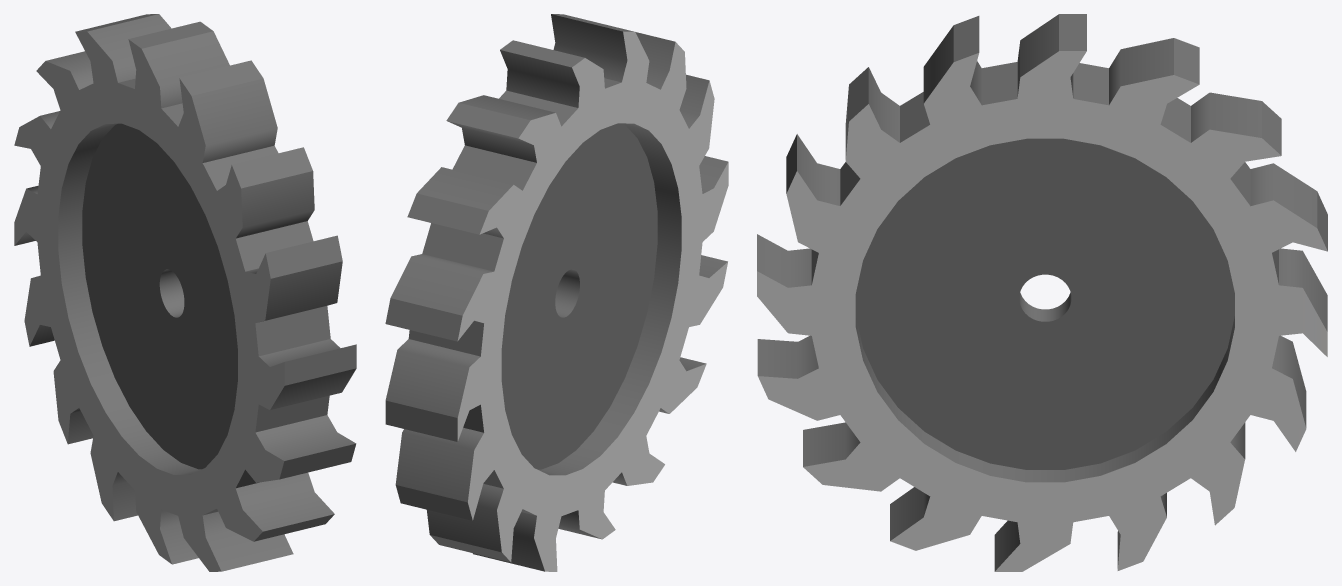
The model's file is B_Scrap_BWE_bucket.fbx.
3 views of the same model, side by side, from view 1: azimuth 30°, elevation 25°; view 2: azimuth 150°, elevation 25°; view 3: azimuth 270°, elevation 25° (orthographic). The views are drawn at different scales.
Visible parts, largest first — view 1: BWE_bucket; view 2: BWE_bucket; view 3: BWE_bucket.
Boxes of the visible parts, <box> form: BWE_bucket: <box>14,14,356,571</box>; BWE_bucket: <box>385,14,728,571</box>; BWE_bucket: <box>757,14,1327,571</box>.
Bounding box in the file's own units: 0.0428 × 0.2802 × 0.2783.
Materials: 1 (1 with a texture image).
